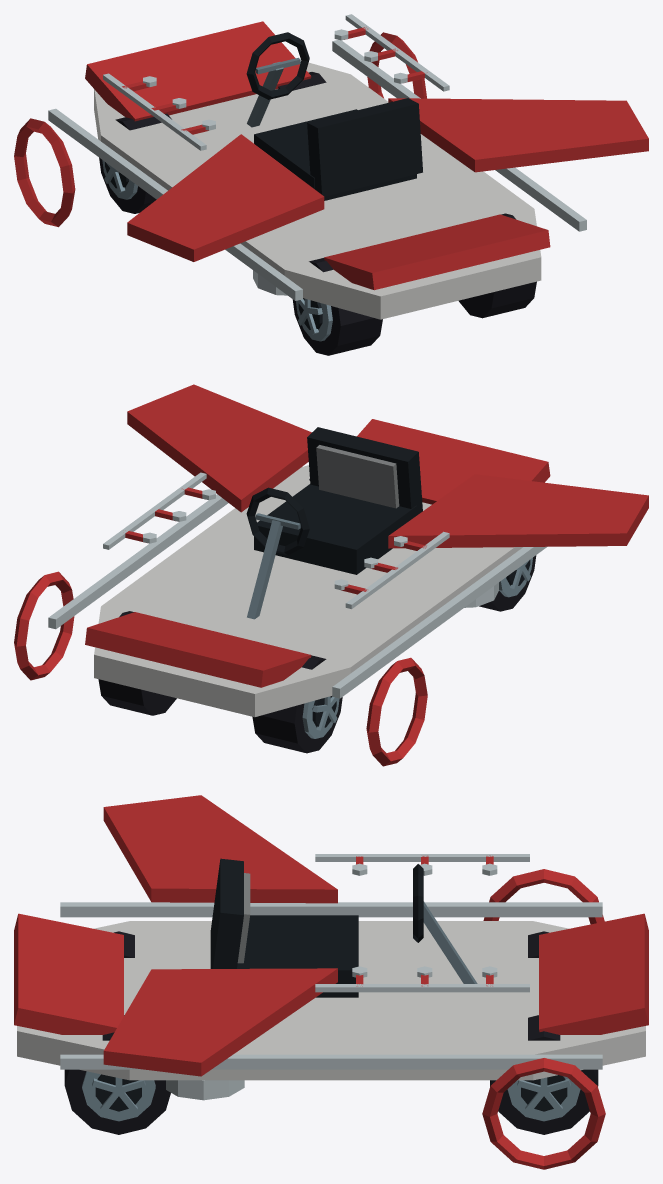
File: kart.glb
The picture shows the model from 3 angles, top to bottom: view 1: azimuth 30°, elevation 25°; view 2: azimuth 150°, elevation 25°; view 3: azimuth 270°, elevation 25°; orthographic projection. The views are drawn at different scales.
Parts seen in each view (by area): view 1: identity-hoverboard-hoverboard-turned-up-deck, identity-hoverboard-motif-wings, identity-hoverboard-driver-cockpit, identity-hoverboard-motif-neon, identity-hoverboard-motif-circuit, wheel-rear-left, wheel-front-left, wheel-rear-right; view 2: identity-hoverboard-hoverboard-turned-up-deck, identity-hoverboard-motif-wings, identity-hoverboard-driver-cockpit, identity-hoverboard-motif-neon, identity-hoverboard-motif-circuit, wheel-front-left, wheel-front-right, wheel-rear-left; view 3: identity-hoverboard-hoverboard-turned-up-deck, identity-hoverboard-motif-wings, identity-hoverboard-motif-neon, identity-hoverboard-driver-cockpit, wheel-rear-right, identity-hoverboard-motif-circuit, wheel-front-right.
Boxes of the visible parts, x1,y1,x2,y2 form: identity-hoverboard-hoverboard-turned-up-deck: (85,21,550,319); identity-hoverboard-motif-wings: (127,98,648,261); identity-hoverboard-driver-cockpit: (246,32,422,200); identity-hoverboard-motif-neon: (14,32,586,300); identity-hoverboard-motif-circuit: (103,14,449,150); wheel-rear-left: (292,258,382,355); wheel-front-left: (99,113,171,213); wheel-rear-right: (458,213,536,318); identity-hoverboard-hoverboard-turned-up-deck: (85,419,550,717); identity-hoverboard-motif-wings: (127,384,648,548); identity-hoverboard-driver-cockpit: (246,427,422,619); identity-hoverboard-motif-neon: (14,494,547,766); identity-hoverboard-motif-circuit: (103,472,449,609); wheel-front-left: (252,655,342,753); wheel-front-right: (98,611,176,715); wheel-rear-left: (479,555,536,611); identity-hoverboard-hoverboard-turned-up-deck: (14,913,648,1100); identity-hoverboard-motif-wings: (103,795,337,1076); identity-hoverboard-motif-neon: (60,869,605,1169); identity-hoverboard-driver-cockpit: (210,858,477,997); wheel-rear-right: (64,1015,170,1134); identity-hoverboard-motif-circuit: (315,854,529,992); wheel-front-right: (490,1015,598,1134).
Size of the model in its own units: 2.92 by 1.09 by 2.93.
